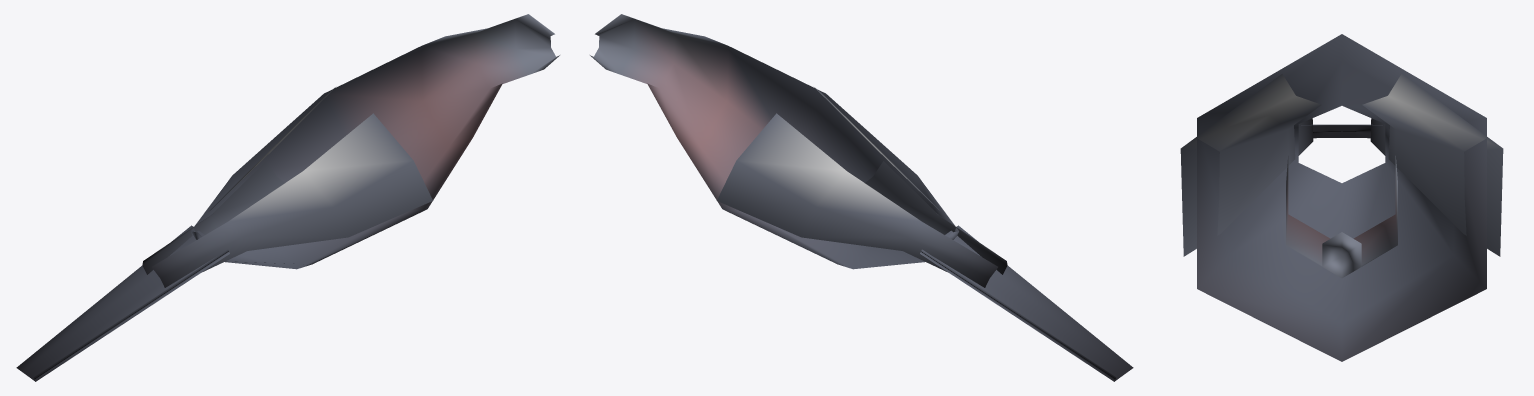
Rendered from SM_Bird_wood_pigeon_perch_LOD2.glb.
3 renders of one model, left to right at view 1: azimuth 30°, elevation 25°; view 2: azimuth 150°, elevation 25°; view 3: azimuth 270°, elevation 25°, orthographic. The views are drawn at different scales.
Visible parts, largest first — view 1: SM_Bird_wood_pigeon_perch_LOD2; view 2: SM_Bird_wood_pigeon_perch_LOD2; view 3: SM_Bird_wood_pigeon_perch_LOD2.
Boxes of the visible parts, x1,y1,x2,y2 form: SM_Bird_wood_pigeon_perch_LOD2: (16,14,559,381); SM_Bird_wood_pigeon_perch_LOD2: (590,14,1133,381); SM_Bird_wood_pigeon_perch_LOD2: (1180,34,1503,361).
Bounding box in the file's own units: 0.4074 × 0.1739 × 0.1177.
